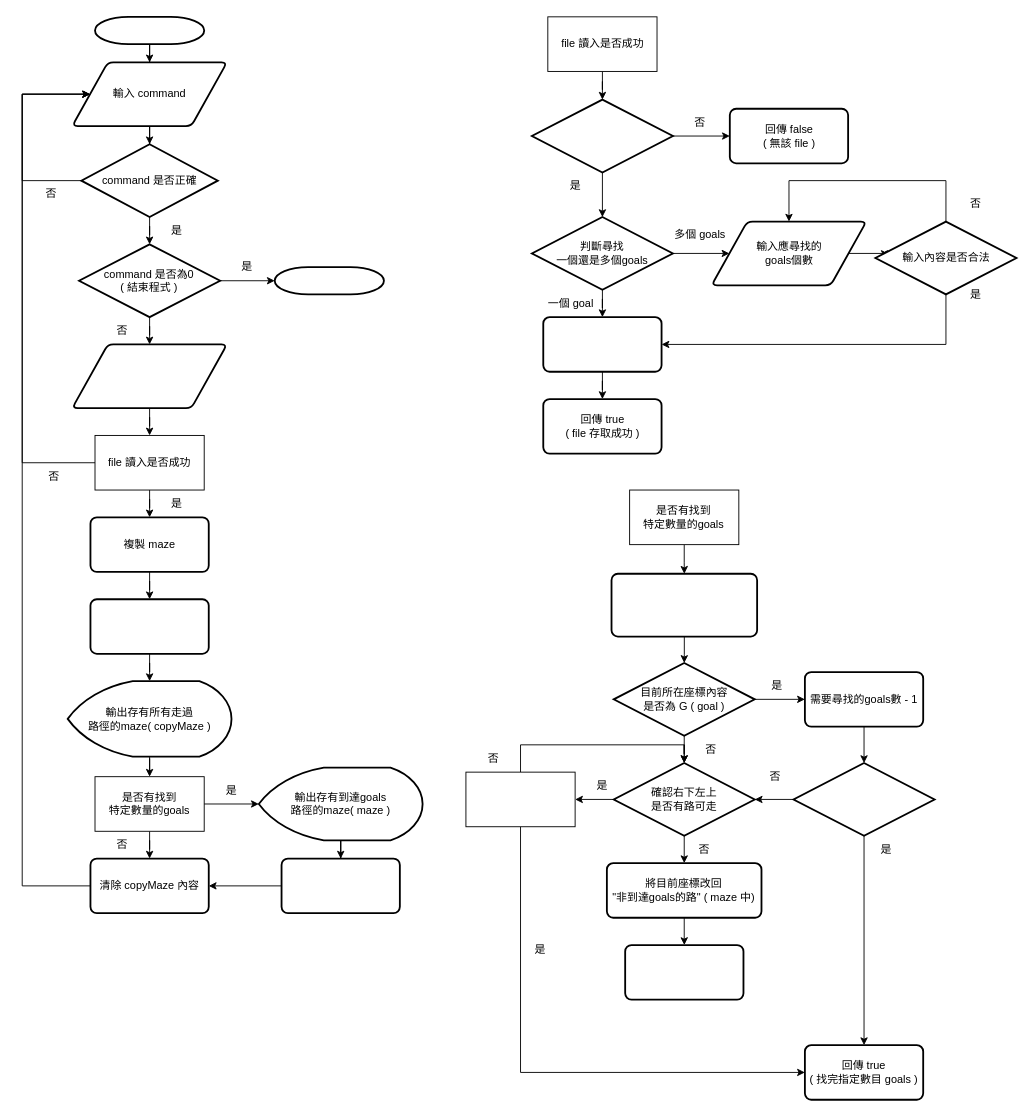
The diagram is 1034 pixels wide and 1116 high, and some of its shapes have lost their labels. Each missing label, with the centre of its shape:
判斷有沒有該 file: (x=602, y=135)
回傳 false ( 沒有能走的下一步 ): (x=684, y=972)
在迷宮中尋找 特定數量的goals: (x=149, y=626)
是否有找到 特定數量的goals ( 傳入下一步的座標): (x=520, y=799)
標記目前座標為 "已走過"( copyMaze 中) "到達goals的路" ( maze 中 ): (x=684, y=604)
清除 maze 內容: (x=340, y=885)
結束: (x=328, y=280)
讀入maze內容: (x=602, y=344)
輸入 file name: (x=149, y=376)
開始: (x=149, y=30)
需要尋找的goals數 是否為零: (x=863, y=799)
